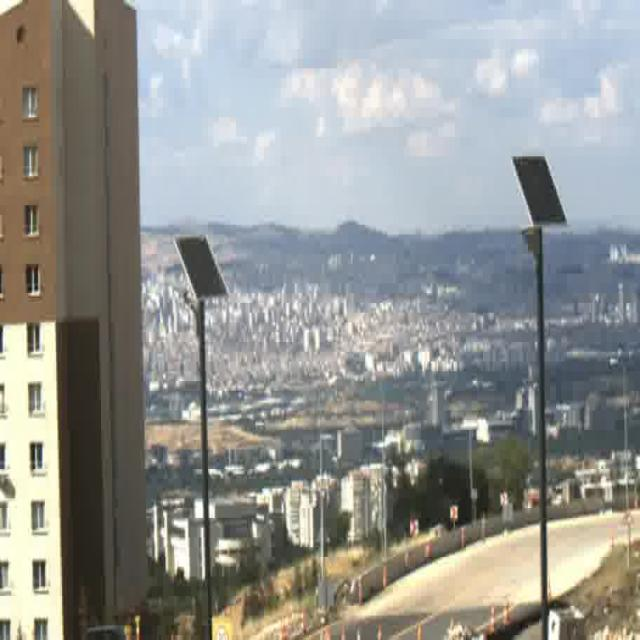Car: (83, 624, 132, 640)
